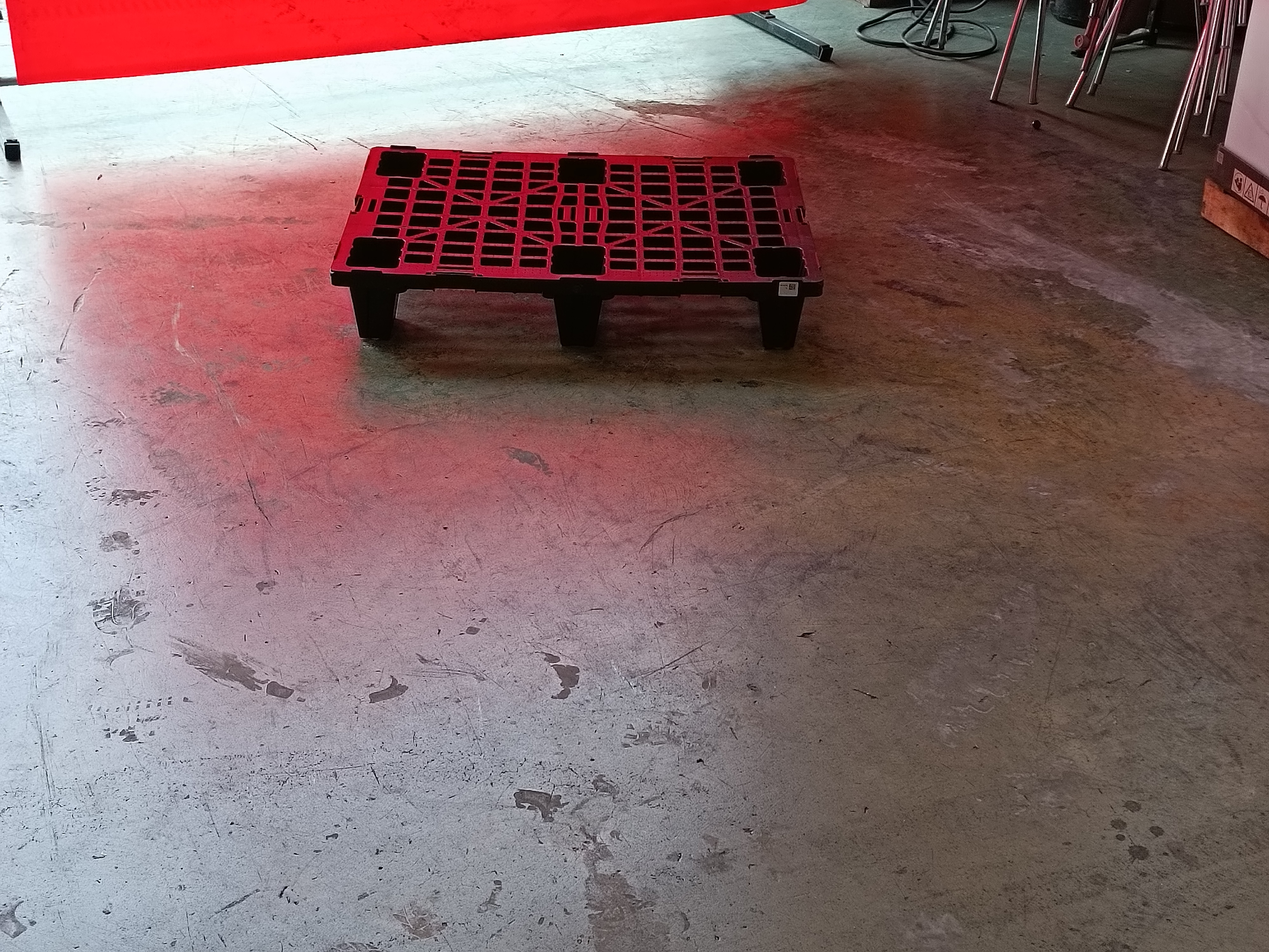block: (343, 287, 400, 353), (550, 288, 604, 350), (757, 289, 810, 350)
front: (329, 273, 816, 364)
hole pallet: (392, 289, 565, 346), (594, 295, 761, 351)
